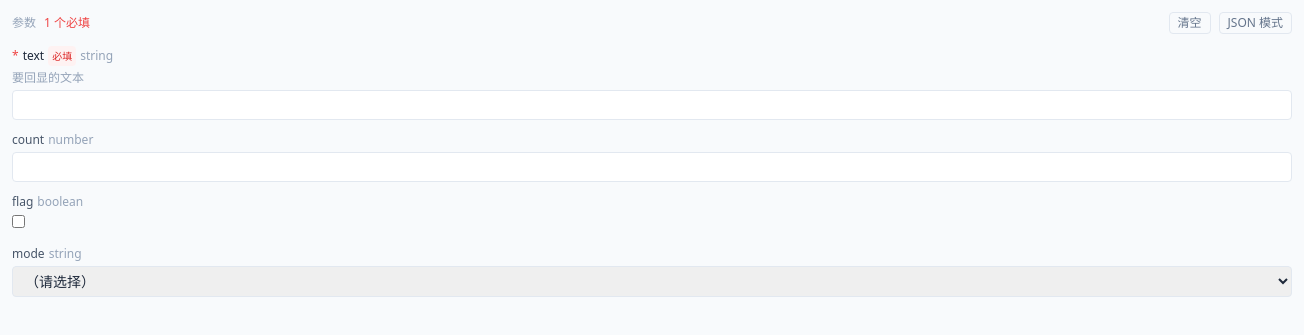
SchemaForm › 必填字段显示标记，失焦后才出现红框
expect the text "必填" is shown: met, box [48,46,76,66]
expect the text "此参数必填" is not shown: met
Click the field named "text" at (652, 105), box [12,90,1292,120]
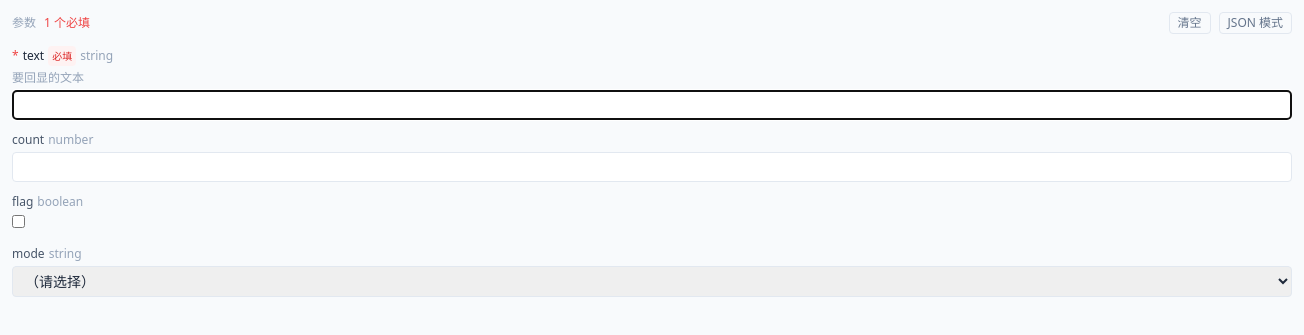
Press Tab
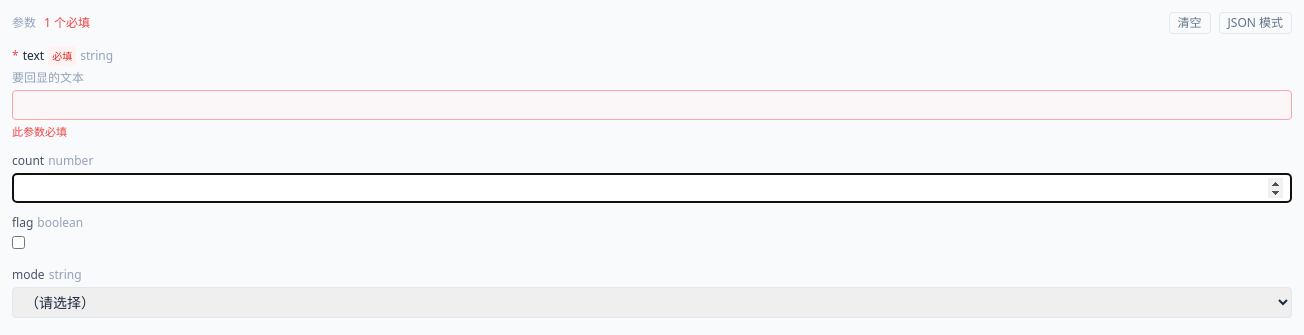
expect the text "此参数必填" is shown: met, box [12,124,67,139]
